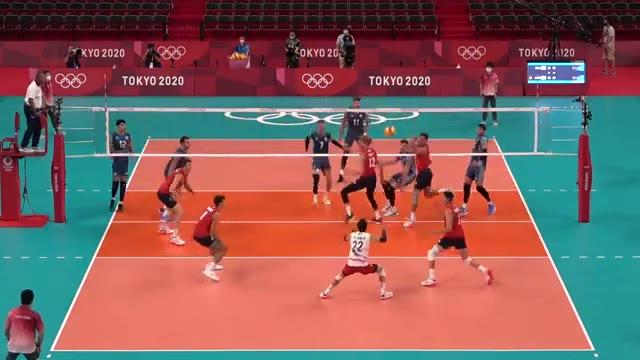ball: (384, 124, 396, 135)
